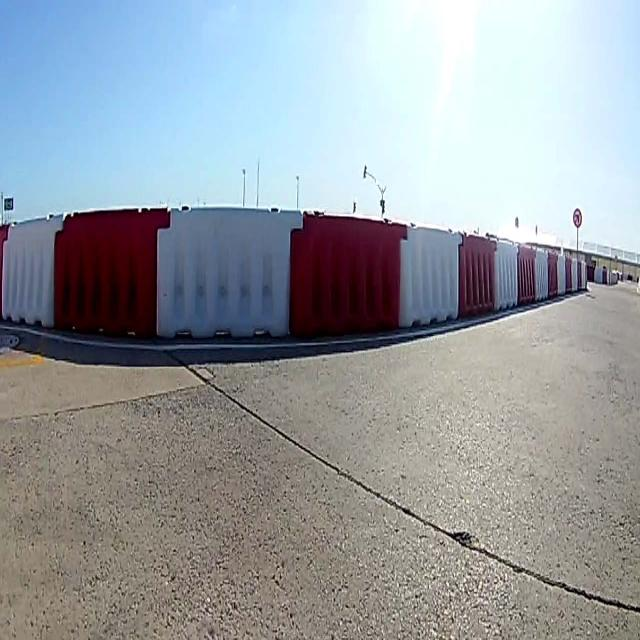soladonulmez: (573, 207, 583, 229)
